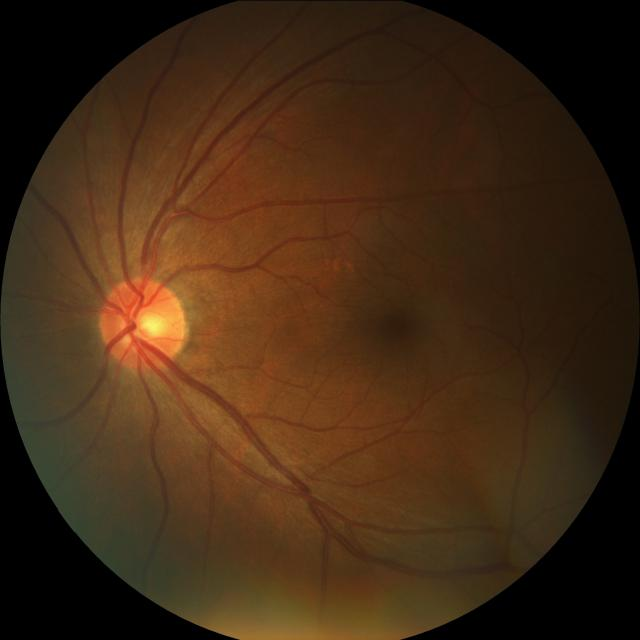OC: (126, 302, 166, 342)
OD: (100, 274, 188, 370)
